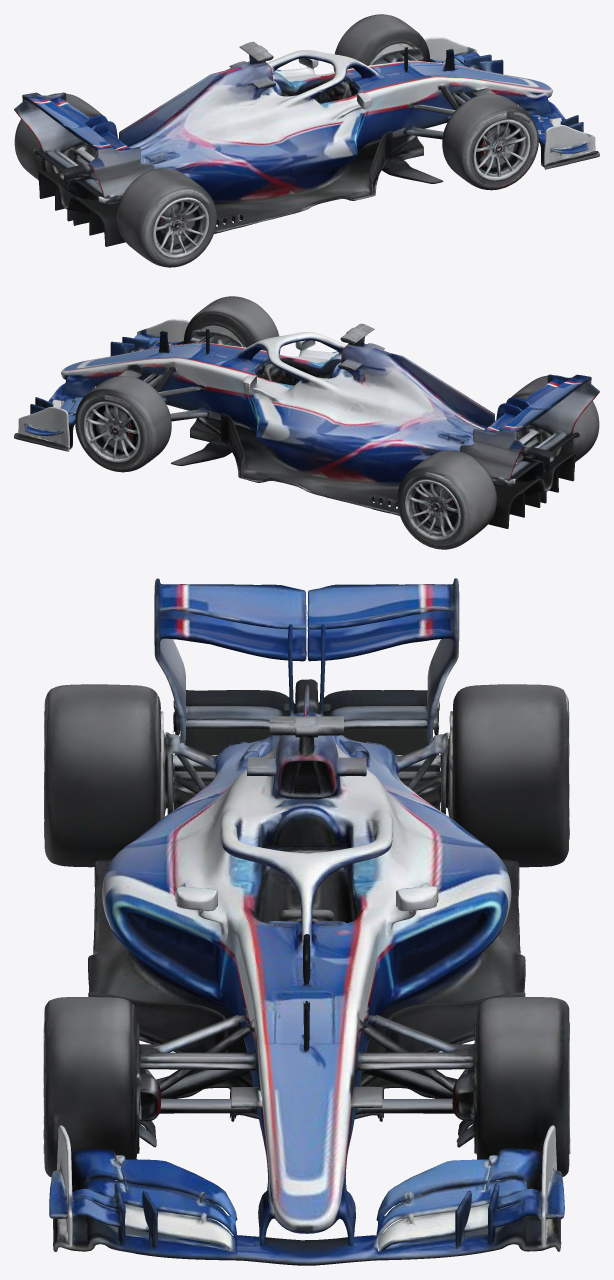
Rendered from racer.glb.
3 renders of one model, top to bottom at view 1: azimuth 30°, elevation 25°; view 2: azimuth 150°, elevation 25°; view 3: azimuth 270°, elevation 25°, orthographic. The views are drawn at different scales.
Parts seen in each view (by area): view 1: tripo_node_dc9a5da6-03fd-4f0d-8ea9-bf8dad9084ea; view 2: tripo_node_dc9a5da6-03fd-4f0d-8ea9-bf8dad9084ea; view 3: tripo_node_dc9a5da6-03fd-4f0d-8ea9-bf8dad9084ea.
Part boxes in pixels (x1,y1,x2,y2): tripo_node_dc9a5da6-03fd-4f0d-8ea9-bf8dad9084ea: (14,14,599,267); tripo_node_dc9a5da6-03fd-4f0d-8ea9-bf8dad9084ea: (14,296,599,549); tripo_node_dc9a5da6-03fd-4f0d-8ea9-bf8dad9084ea: (43,578,570,1265).
Size of the model in its own units: 0.9802 by 0.2592 by 0.4459.
1 material, 1 textured.
